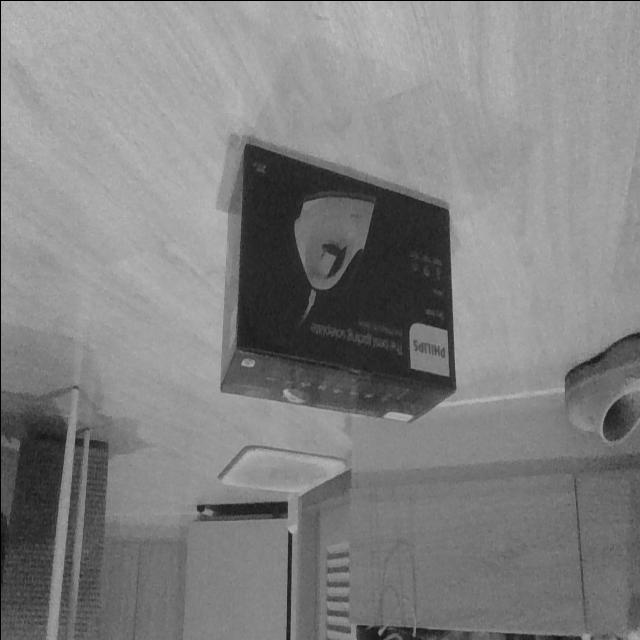IRON: (217, 137, 458, 427)
